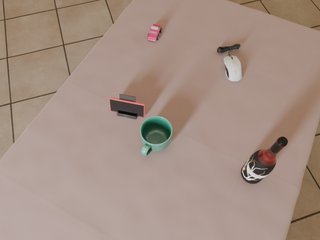bottle: (241, 137, 288, 184)
cup: (140, 116, 172, 156)
mouse: (224, 56, 242, 81)
phone: (109, 97, 145, 117)
toy_car: (148, 24, 162, 41)
